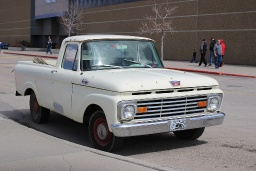car: (11, 31, 231, 150)
